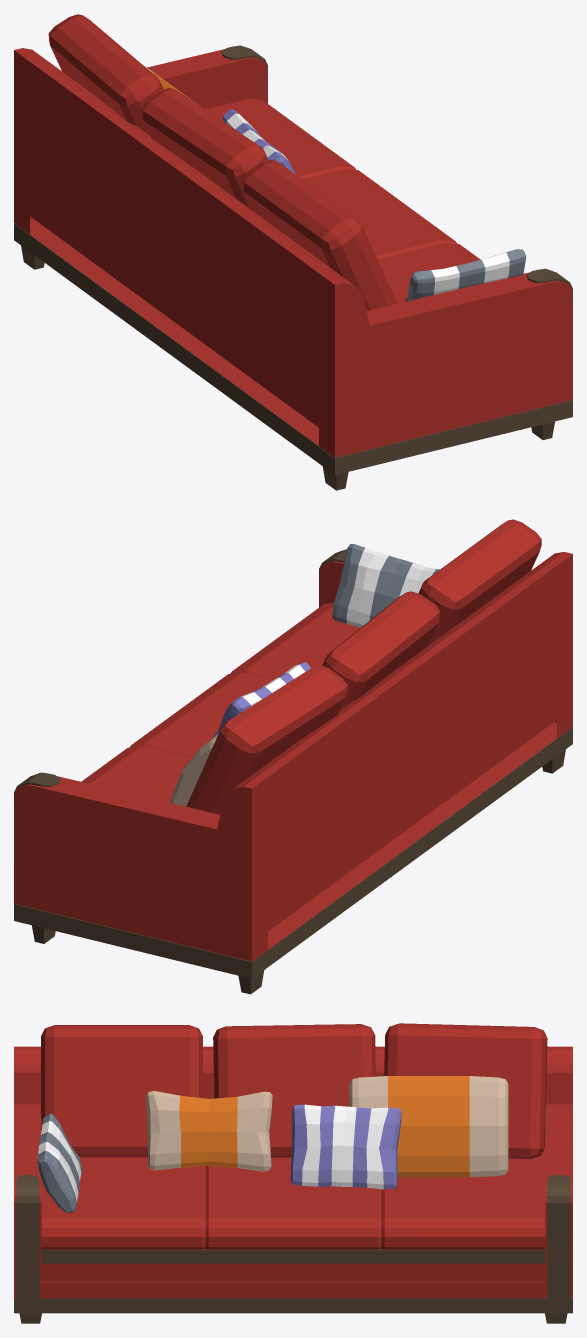
Rendered from SM_Sofa_02.glb.
3 views of the same model, one above another, from view 1: azimuth 30°, elevation 25°; view 2: azimuth 150°, elevation 25°; view 3: azimuth 270°, elevation 25° (orthographic). The views are drawn at different scales.
Visible parts, largest first — view 1: SM_Sofa_02; view 2: SM_Sofa_02; view 3: SM_Sofa_02.
Part boxes in pixels (<box>): SM_Sofa_02: <box>14,14,572,490</box>; SM_Sofa_02: <box>14,519,572,994</box>; SM_Sofa_02: <box>14,1023,572,1323</box>.
Size of the model in its own units: 1.16 by 1.16 by 2.68.
1 material, 1 textured.
